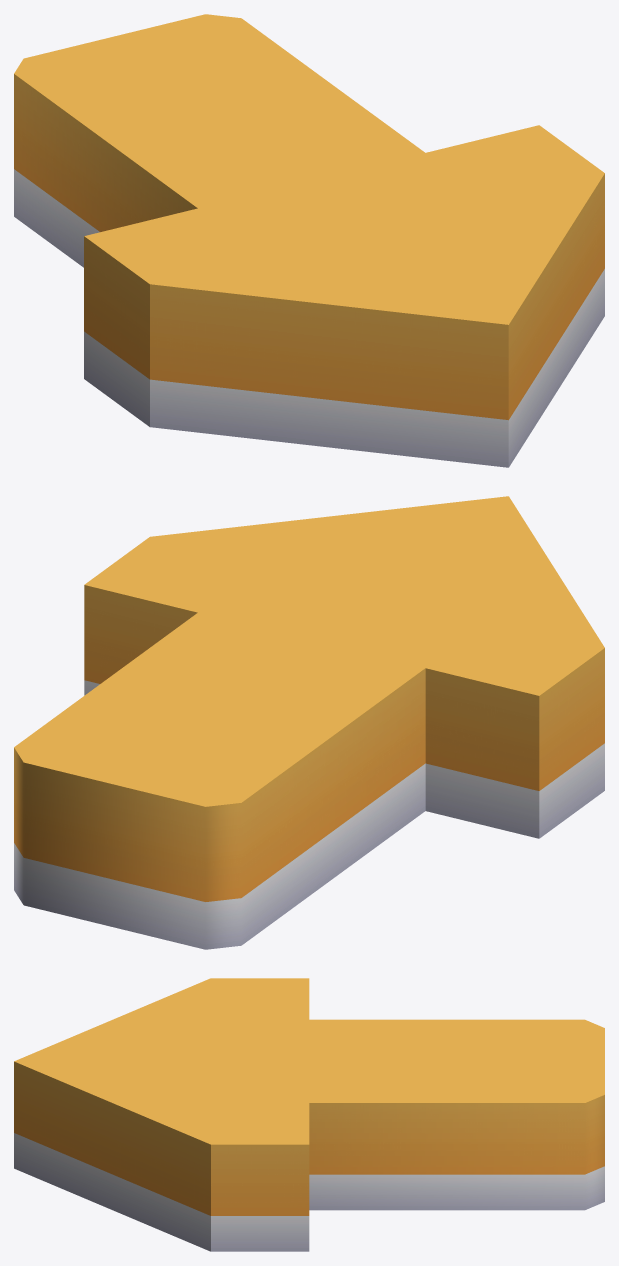
File: arrow-transformed-transformed.glb
3 renders of one model, top to bottom at view 1: azimuth 30°, elevation 25°; view 2: azimuth 150°, elevation 25°; view 3: azimuth 270°, elevation 25°, orthographic. The views are drawn at different scales.
Visible parts, largest first — view 1: arrow; view 2: arrow; view 3: arrow.
Part boxes in pixels (x1,y1,x2,y2): arrow: [14, 14, 604, 467]; arrow: [14, 496, 604, 949]; arrow: [14, 978, 604, 1251].
Size of the model in its own units: 2 by 0.6001 by 3.
1 material, 1 textured.
